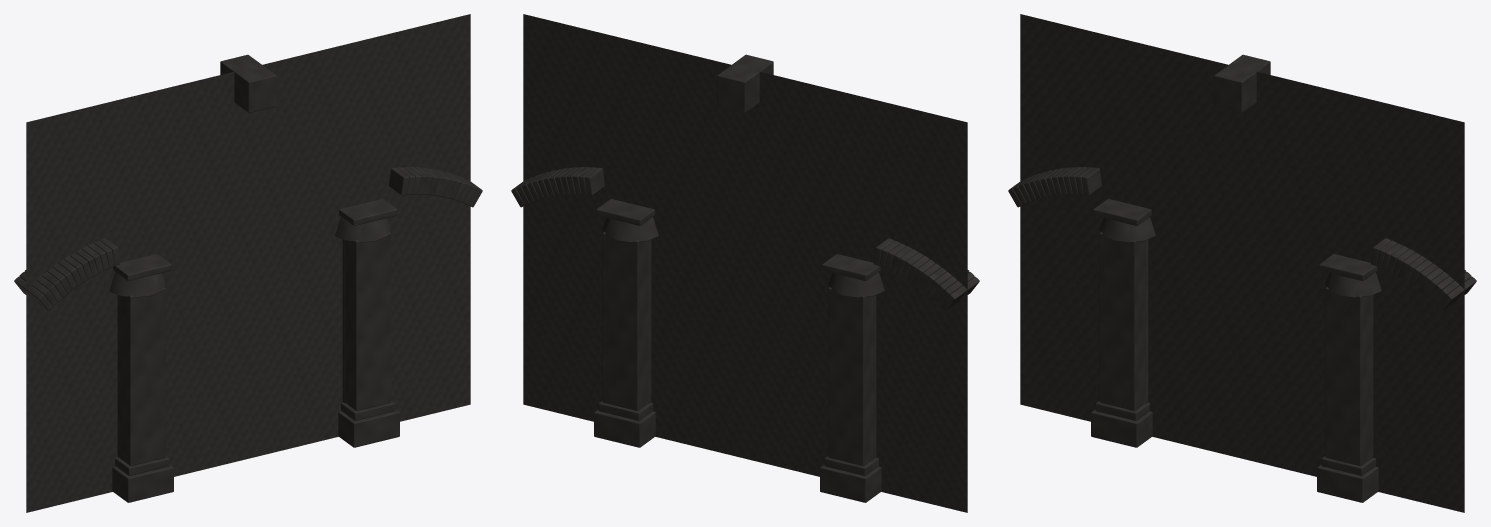
Rendered from GothicArch_Lancet_MultiLOD.glb.
3 views of the same model, side by side, from view 1: azimuth 30°, elevation 25°; view 2: azimuth 150°, elevation 25°; view 3: azimuth 330°, elevation 25° (orthographic).
Visible parts, largest first — view 1: GothicArch_Lancet_Impostor, GothicArch_Lancet_LOD0; view 2: GothicArch_Lancet_Impostor, GothicArch_Lancet_LOD0; view 3: GothicArch_Lancet_Impostor, GothicArch_Lancet_LOD0.
Boxes of the visible parts, x1=… form: GothicArch_Lancet_Impostor: x1=26, y1=14, x2=470, y2=512; GothicArch_Lancet_LOD0: x1=14, y1=54, x2=482, y2=502; GothicArch_Lancet_Impostor: x1=523, y1=14, x2=967, y2=512; GothicArch_Lancet_LOD0: x1=511, y1=54, x2=979, y2=502; GothicArch_Lancet_Impostor: x1=1020, y1=14, x2=1464, y2=512; GothicArch_Lancet_LOD0: x1=1008, y1=54, x2=1476, y2=502.
Size of what is drawn, in the model's own units: 5.61 by 4.71 by 0.6874.
Materials: 1 (1 with a texture image).
